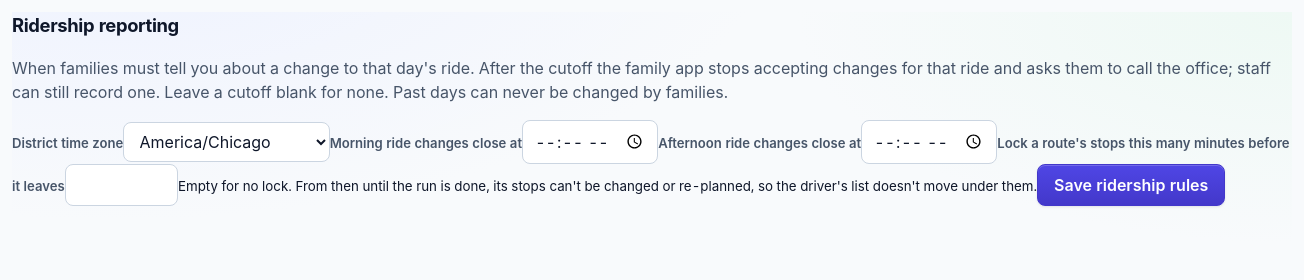
Test: RidershipRulesSection › shows the API error when saving is rejected
Expected: the dropdown labelled "District time zone" is shown, [123,122,330,162]
What coordinates should you click on to do the following:
click the button "Save ridership rules"
I would click on:
 (1131, 185)
Its box is [1037,164,1225,206].
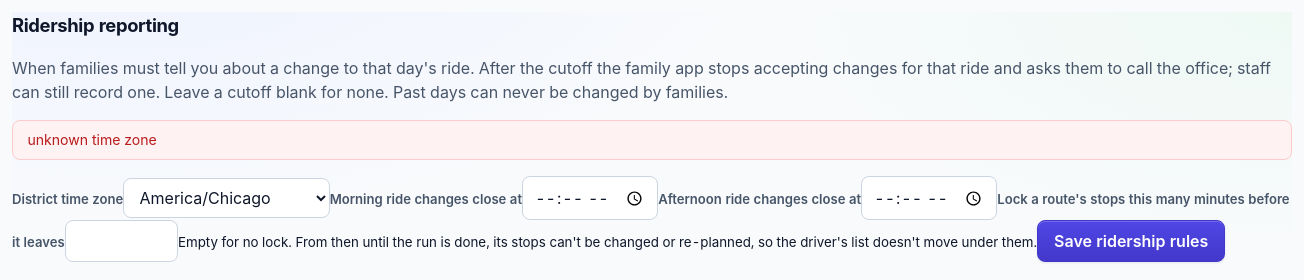
Result: the message reads "unknown time zone" at [27,131,157,148]
